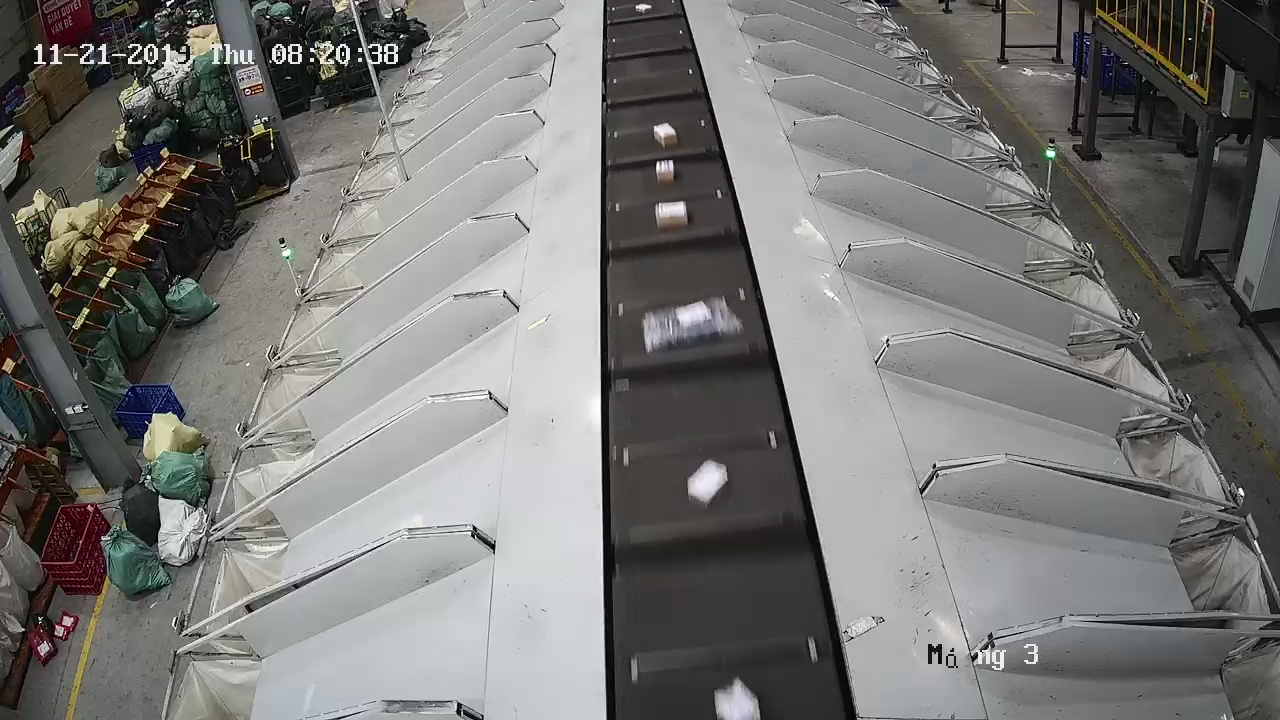parcel: (684, 457, 730, 511)
